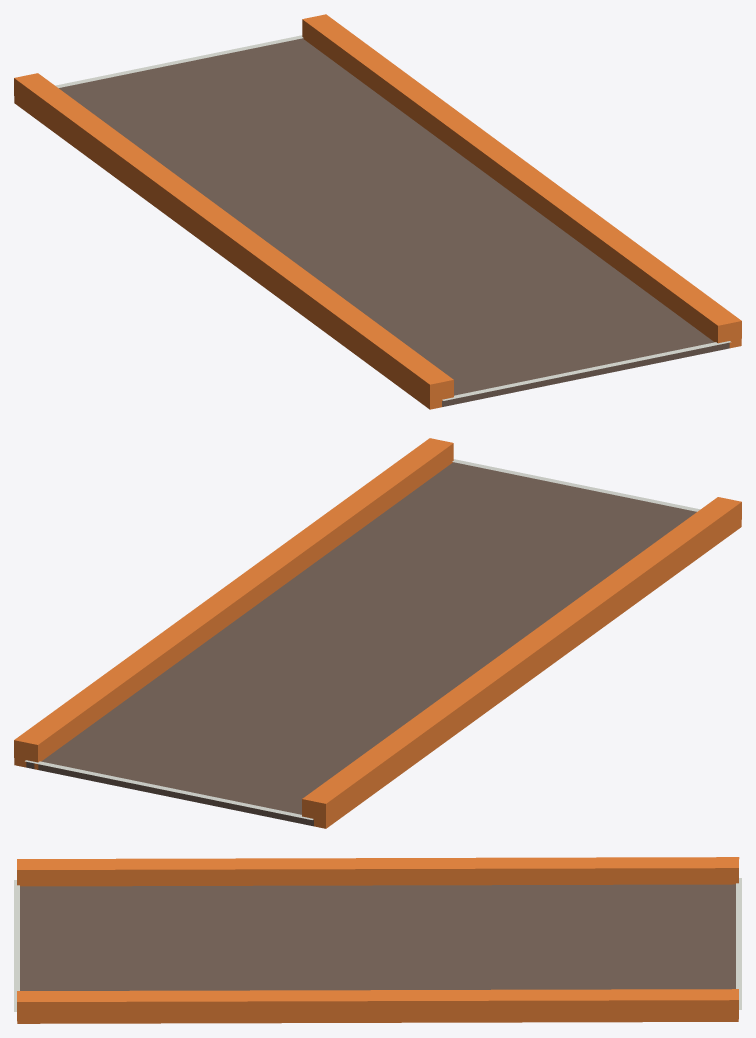
Rendered from SM_MP_Film_B_1_2.fbx.
The picture shows the model from 3 angles, top to bottom: view 1: azimuth 30°, elevation 25°; view 2: azimuth 150°, elevation 25°; view 3: azimuth 270°, elevation 25°; orthographic projection. The views are drawn at different scales.
Visible parts, largest first — view 1: SM_MP_Film_B_1_2; view 2: SM_MP_Film_B_1_2; view 3: SM_MP_Film_B_1_2.
Boxes of the visible parts, x1=… form: SM_MP_Film_B_1_2: x1=14, y1=14, x2=741, y2=409; SM_MP_Film_B_1_2: x1=14, y1=438, x2=741, y2=828; SM_MP_Film_B_1_2: x1=14, y1=857, x2=741, y2=1023.
Size of what is drawn, in the model's own units: 260 by 605 by 31.72.
